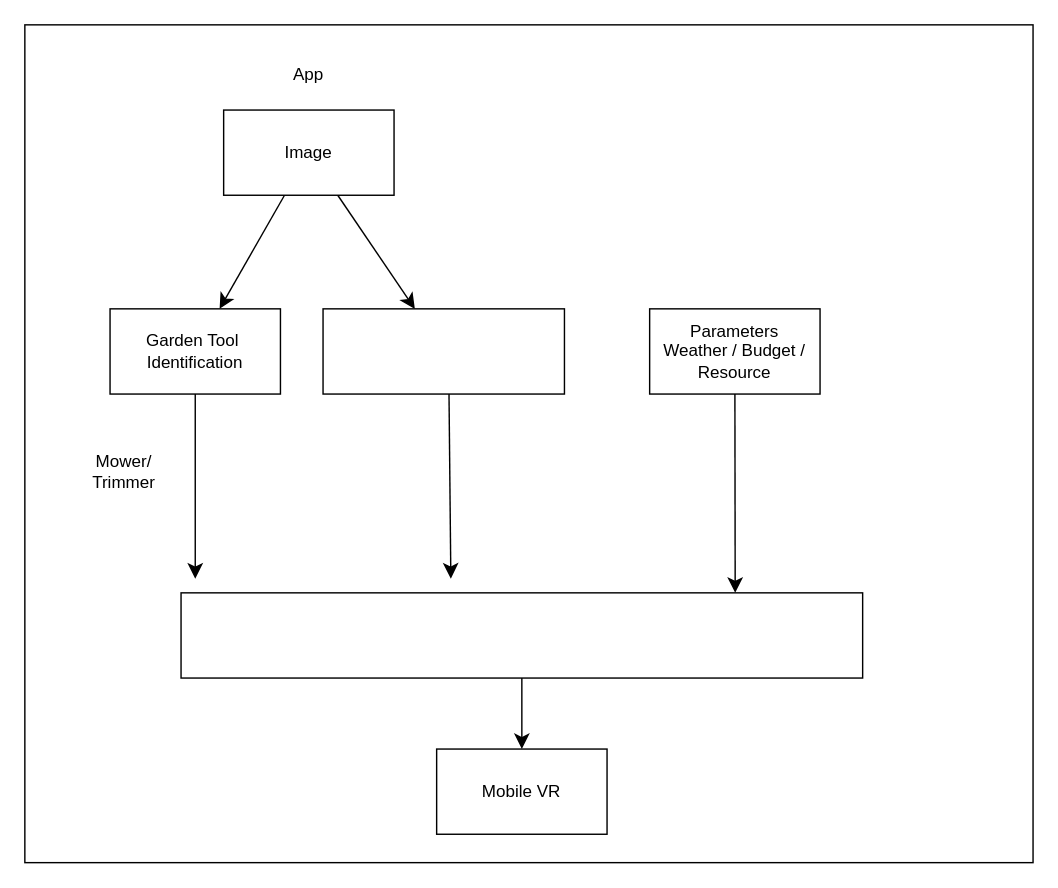
Some shapes in this 1058 by 888 pixel diagram are drawn without their labels. The centre of each missing label's shape, as x and y in pixels:
3D Generator Map of Garden: pixel 443 350
Unity 3D Gameplay: pixel 521 634
